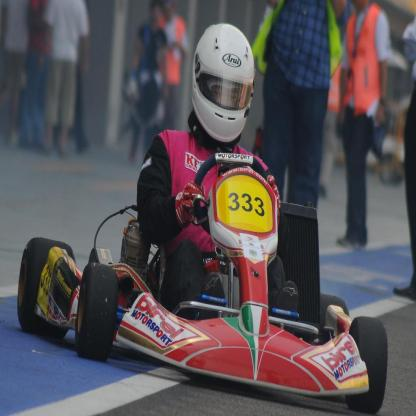Helmet: (188, 23, 260, 149)
